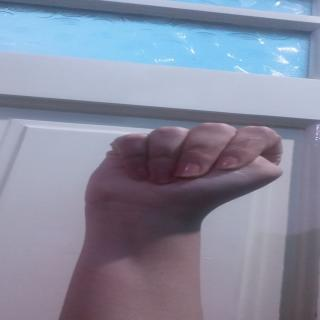SAD: (65, 120, 304, 222)
